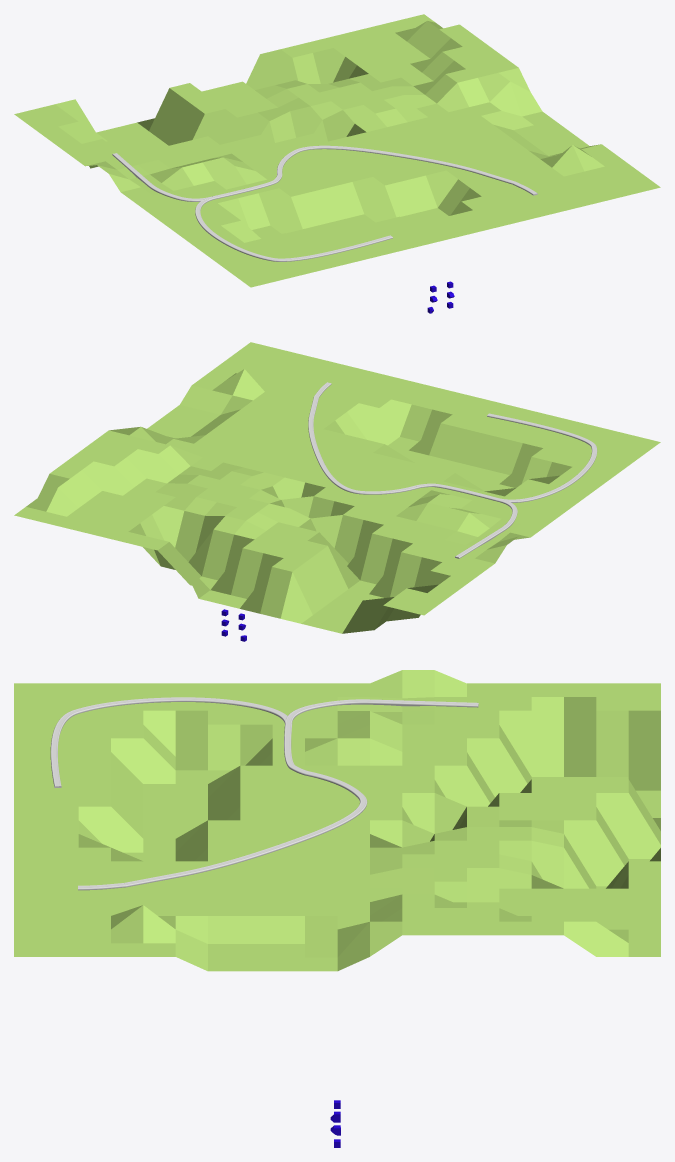
The picture shows the model from 3 angles, top to bottom: view 1: azimuth 30°, elevation 25°; view 2: azimuth 150°, elevation 25°; view 3: azimuth 270°, elevation 25°; orthographic projection. The views are drawn at different scales.
Parts seen in each view (by area): view 1: Test, R_N_Village_1__N_Village_2, R_N_Junction_01__N_Village_03, R_N_Junction_01__N_Village_04; view 2: Test, R_N_Junction_01__N_Village_03, R_N_Village_1__N_Village_2, R_N_Junction_01__N_Village_04; view 3: Test, R_N_Village_1__N_Village_2, R_N_Junction_01__N_Village_03, R_N_Junction_01__N_Village_04.
Boxes of the visible parts, x1,y1,x2,y2 form: Test: (14,14,660,287); R_N_Village_1__N_Village_2: (277,145,537,195); R_N_Junction_01__N_Village_03: (195,196,392,261); R_N_Junction_01__N_Village_04: (112,153,213,201); Test: (14,342,660,633); R_N_Junction_01__N_Village_03: (487,413,597,502); R_N_Village_1__N_Village_2: (308,382,417,494); R_N_Junction_01__N_Village_04: (455,498,517,558); Test: (14,670,660,971); R_N_Village_1__N_Village_2: (78,771,367,890); R_N_Junction_01__N_Village_03: (50,697,291,787); R_N_Junction_01__N_Village_04: (285,699,478,723).
Size of the model in its own units: 200 by 94.29 by 200.
